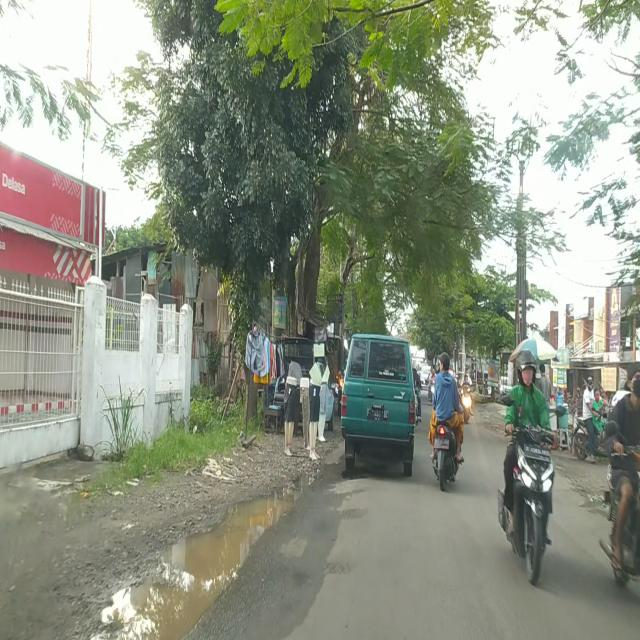Drain Hole: (322, 559, 354, 574), (337, 506, 367, 520)
